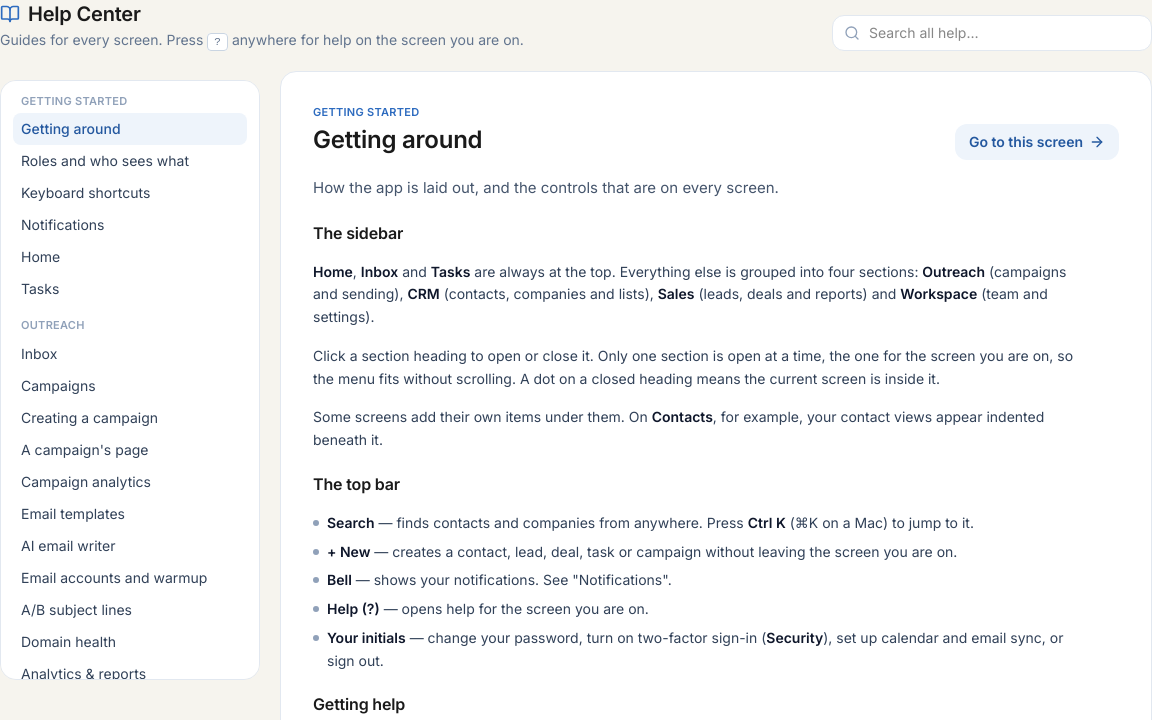
HelpCenter page › searches the help library
In the field with placeholder "Search all help…": coordinates (992, 33) [832,15,1151,51], type "zzqx-no-such-topic"
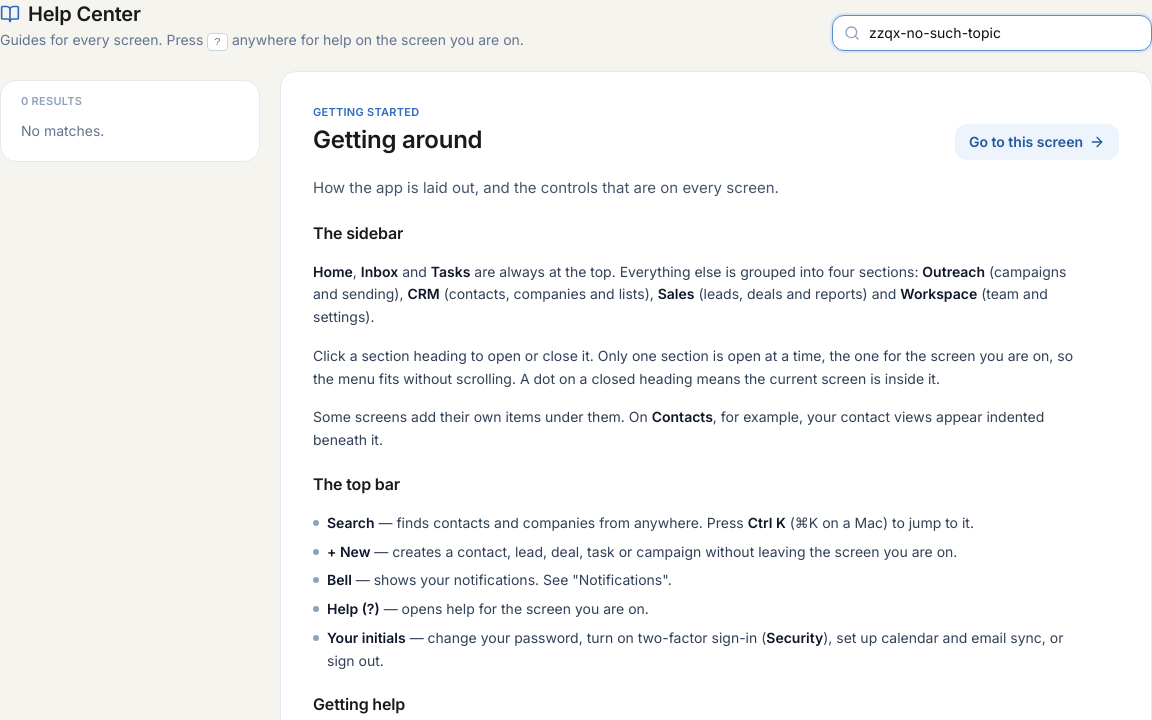
Now the text "No matches." is shown, box [21,122,104,140]
